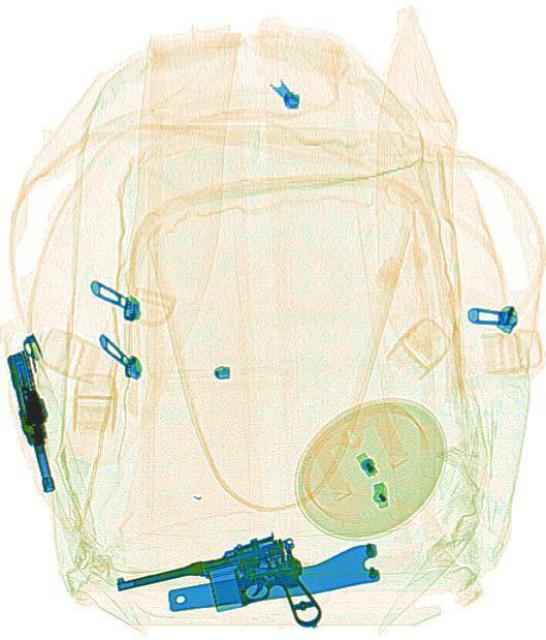Gun: (115, 530, 306, 634), (2, 346, 63, 494)
